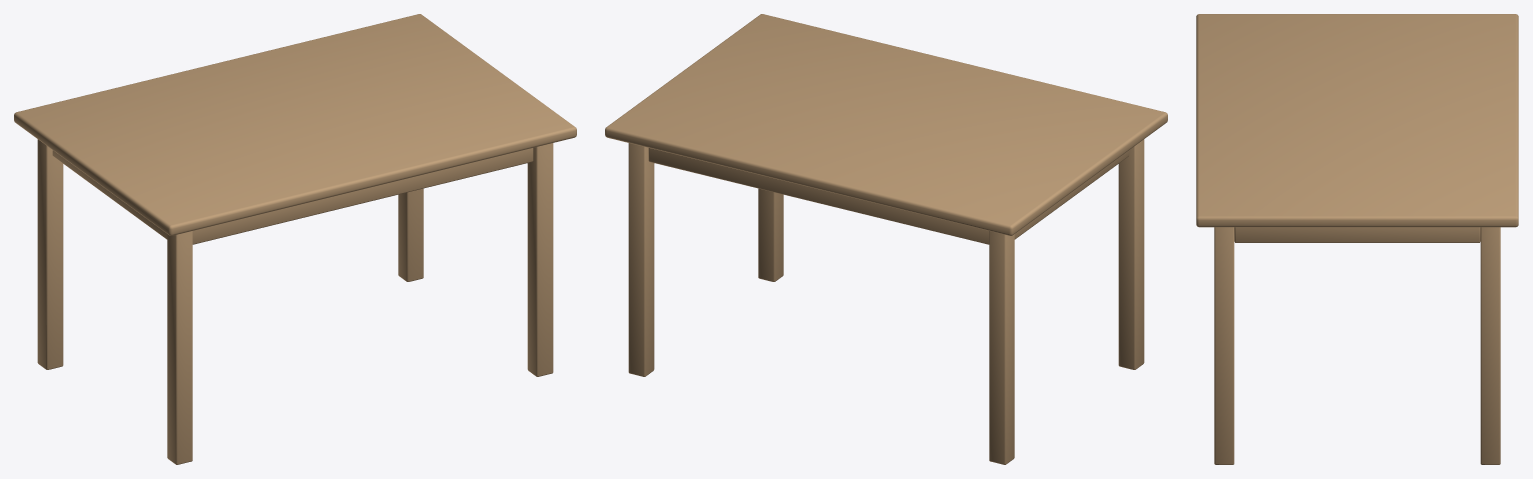
Rendered from table-1.glb.
3 renders of one model, left to right at view 1: azimuth 30°, elevation 25°; view 2: azimuth 150°, elevation 25°; view 3: azimuth 270°, elevation 25°, orthographic. The views are drawn at different scales.
Parts seen in each view (by area): view 1: Table; view 2: Table; view 3: Table.
Boxes of the visible parts, box(x1,y1,x2,y2) form: Table: box(14, 14, 576, 464); Table: box(605, 14, 1167, 464); Table: box(1196, 14, 1518, 464).
Size of the model in its own units: 1.2 by 0.7 by 0.8.
